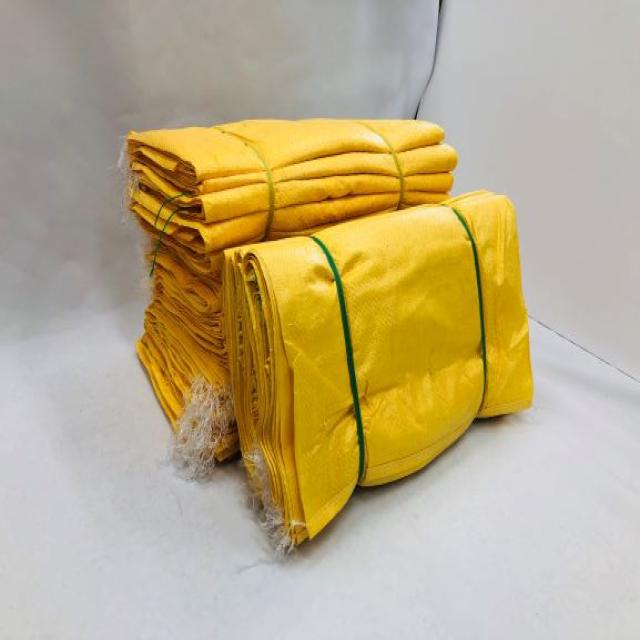PP bag: (214, 199, 556, 558), (105, 99, 468, 248)
